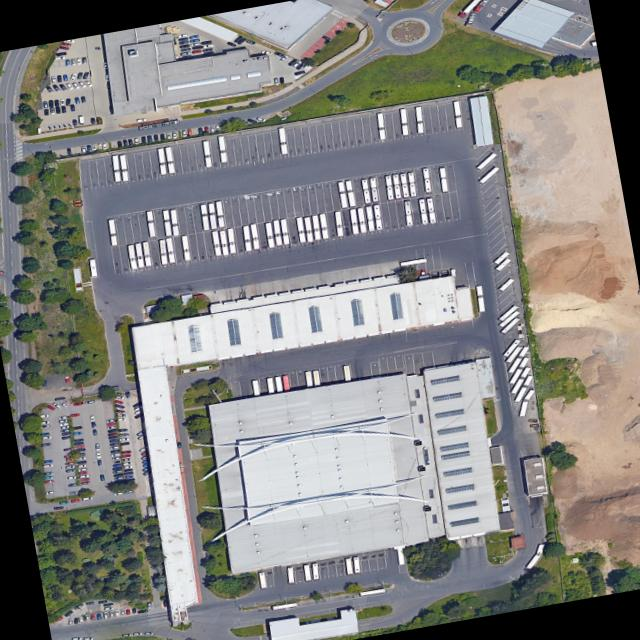large-vehicle: (507, 345, 530, 373), (510, 366, 532, 393), (508, 357, 530, 384), (525, 543, 546, 569), (518, 388, 535, 417), (458, 0, 481, 18), (478, 166, 500, 184), (499, 310, 521, 327), (477, 152, 498, 169), (502, 338, 521, 356), (499, 304, 519, 321), (500, 317, 521, 333), (337, 181, 349, 208), (199, 203, 210, 231), (505, 346, 523, 363), (345, 180, 356, 207), (211, 230, 222, 257), (242, 225, 253, 252), (334, 210, 345, 237), (361, 178, 372, 204), (319, 213, 330, 239), (349, 208, 360, 234), (135, 242, 146, 268), (142, 241, 153, 267), (165, 237, 176, 263), (418, 198, 429, 224), (250, 222, 260, 250), (215, 200, 225, 228), (157, 147, 167, 175), (165, 146, 175, 174), (170, 208, 180, 236), (218, 135, 228, 163), (278, 126, 288, 154), (376, 112, 386, 140), (453, 100, 463, 128), (112, 154, 122, 182), (369, 177, 380, 202), (219, 229, 229, 256), (227, 227, 237, 254), (273, 219, 283, 246), (280, 218, 290, 245), (296, 216, 306, 243), (119, 154, 129, 181), (108, 219, 118, 246), (146, 210, 156, 237), (162, 209, 172, 236), (159, 238, 169, 265), (476, 285, 486, 312), (265, 222, 275, 248), (303, 216, 313, 242), (312, 214, 322, 240), (128, 244, 138, 270), (181, 235, 191, 261), (357, 207, 367, 233), (373, 204, 383, 230), (404, 200, 414, 226), (427, 197, 437, 223), (400, 172, 410, 198), (203, 140, 212, 168), (493, 250, 511, 264), (400, 108, 409, 136), (407, 171, 417, 196), (422, 167, 432, 192), (208, 202, 217, 229), (366, 205, 375, 232), (495, 257, 512, 271), (385, 174, 394, 200), (439, 166, 448, 192), (392, 173, 401, 199), (498, 278, 515, 291), (400, 258, 427, 266), (415, 106, 423, 133), (272, 602, 298, 610), (360, 588, 386, 596), (258, 571, 268, 588), (89, 259, 98, 277), (252, 379, 261, 397), (282, 374, 291, 392), (304, 370, 313, 388), (343, 364, 352, 382), (266, 377, 275, 394), (396, 548, 405, 565), (304, 563, 312, 581), (275, 375, 283, 393), (312, 369, 320, 387), (287, 566, 295, 584), (311, 562, 319, 580), (345, 557, 353, 575), (353, 555, 361, 573)
small-vehicle: (467, 12, 477, 23), (236, 36, 247, 45), (291, 60, 303, 68), (246, 117, 259, 124), (287, 58, 298, 66), (296, 62, 307, 70), (57, 44, 71, 50), (225, 40, 237, 47), (81, 71, 90, 80), (45, 84, 54, 93), (77, 80, 87, 88), (68, 73, 78, 81), (51, 83, 61, 91), (233, 35, 243, 43), (179, 50, 192, 56), (254, 116, 267, 122), (84, 79, 93, 87), (71, 81, 80, 89), (59, 83, 68, 91), (245, 39, 257, 45), (261, 50, 273, 56), (274, 51, 286, 57), (52, 402, 62, 409), (78, 115, 85, 125), (63, 610, 73, 617), (279, 55, 289, 62), (137, 433, 147, 440), (142, 465, 152, 472), (142, 469, 152, 476), (141, 457, 151, 464), (140, 453, 150, 460), (113, 399, 124, 405), (114, 403, 125, 409), (131, 401, 142, 407), (135, 430, 146, 436), (42, 470, 53, 476), (138, 446, 149, 452), (66, 82, 74, 90), (102, 611, 109, 620), (74, 603, 83, 610), (55, 51, 67, 56), (181, 54, 193, 59), (203, 43, 215, 48), (178, 39, 188, 45), (70, 425, 82, 430), (72, 437, 84, 442), (133, 405, 143, 411), (134, 409, 144, 415), (134, 413, 144, 419), (58, 500, 70, 505), (76, 72, 83, 80), (60, 400, 68, 407), (66, 147, 73, 155), (95, 450, 102, 458), (90, 420, 97, 428), (54, 55, 65, 60), (114, 395, 125, 400), (55, 396, 66, 401), (69, 412, 80, 417), (58, 415, 69, 420), (192, 45, 203, 50), (179, 43, 190, 48), (189, 38, 200, 43), (188, 34, 199, 39), (103, 602, 114, 607), (294, 70, 305, 75), (118, 441, 129, 446), (110, 452, 121, 457), (105, 421, 116, 426), (40, 442, 51, 447), (60, 428, 71, 433), (110, 448, 121, 453), (65, 464, 76, 469), (78, 470, 89, 475), (65, 58, 71, 67), (47, 404, 56, 410), (54, 616, 63, 622), (140, 450, 149, 456), (321, 35, 331, 40), (58, 418, 68, 423), (180, 47, 190, 52), (43, 463, 53, 468), (108, 435, 118, 440), (107, 431, 117, 436), (76, 447, 86, 452), (78, 467, 88, 472), (105, 418, 115, 423), (62, 431, 72, 436), (113, 469, 123, 474), (121, 449, 131, 454), (122, 457, 132, 462), (44, 478, 54, 483), (69, 104, 76, 111), (124, 391, 131, 398), (89, 414, 96, 421), (54, 99, 60, 107), (74, 96, 80, 104), (61, 105, 67, 113), (49, 106, 55, 114), (76, 57, 82, 65), (60, 42, 72, 46), (72, 118, 78, 126), (102, 142, 108, 150), (86, 144, 92, 152), (91, 143, 97, 151), (84, 613, 90, 621), (109, 610, 115, 618), (105, 73, 111, 81), (176, 441, 182, 449), (274, 77, 280, 85), (128, 138, 134, 146), (134, 137, 140, 145), (153, 133, 159, 141), (172, 131, 178, 139), (114, 413, 126, 417), (114, 409, 126, 413), (96, 458, 102, 466), (143, 461, 151, 467), (109, 438, 118, 443), (95, 442, 100, 451), (45, 490, 54, 495), (114, 491, 123, 496), (122, 453, 131, 458), (191, 49, 202, 53), (204, 51, 215, 55), (201, 40, 212, 44), (53, 506, 64, 510), (118, 437, 129, 441), (75, 456, 86, 460), (39, 432, 50, 436), (41, 435, 52, 439), (112, 466, 123, 470), (66, 468, 77, 472), (66, 475, 77, 479), (78, 474, 89, 478), (65, 98, 71, 105), (55, 106, 61, 113), (64, 376, 70, 383), (73, 617, 79, 624), (79, 616, 85, 623), (114, 610, 120, 617), (204, 126, 210, 133), (123, 139, 129, 146), (117, 141, 123, 148), (198, 127, 204, 134), (141, 136, 147, 143), (99, 474, 105, 481), (60, 98, 65, 106), (82, 56, 87, 64), (73, 401, 83, 405), (85, 400, 95, 404), (39, 414, 49, 418), (40, 420, 50, 424), (81, 145, 86, 153), (60, 425, 70, 429), (144, 631, 154, 635), (203, 48, 213, 52), (190, 42, 200, 46), (122, 633, 132, 637), (133, 632, 143, 636), (104, 606, 114, 610), (138, 609, 148, 613), (103, 61, 108, 69), (137, 118, 147, 122), (65, 457, 75, 461), (279, 76, 284, 84), (147, 134, 152, 142), (107, 428, 117, 432), (118, 428, 128, 432), (72, 431, 82, 435), (61, 435, 71, 439), (124, 465, 134, 469), (124, 471, 134, 475), (81, 480, 91, 484), (69, 491, 79, 495), (70, 498, 80, 502), (83, 496, 93, 500), (113, 455, 121, 460), (44, 459, 54, 463), (43, 475, 53, 479), (122, 461, 132, 465), (80, 96, 86, 102), (40, 424, 49, 428), (60, 422, 69, 426), (179, 37, 188, 41), (83, 637, 95, 640), (67, 618, 73, 624), (131, 608, 137, 614), (178, 33, 187, 37), (210, 126, 216, 132), (76, 452, 85, 456), (160, 133, 166, 139), (110, 445, 119, 449), (110, 442, 119, 446), (75, 441, 84, 445), (76, 444, 85, 448), (77, 464, 86, 468), (107, 425, 116, 429), (124, 468, 133, 472), (68, 483, 77, 487), (65, 461, 74, 465), (80, 477, 89, 481), (112, 463, 121, 467), (43, 101, 48, 108), (49, 100, 54, 107), (44, 108, 49, 115), (71, 58, 76, 65), (51, 76, 56, 83), (57, 75, 62, 82), (63, 74, 68, 81), (90, 613, 95, 620), (120, 609, 125, 616), (126, 608, 131, 615), (107, 82, 112, 89), (163, 599, 168, 606), (166, 132, 171, 139), (182, 130, 187, 137), (71, 637, 82, 640), (118, 433, 129, 436), (86, 601, 94, 605), (99, 600, 107, 604), (64, 454, 72, 458), (64, 447, 72, 451), (78, 460, 86, 464), (126, 474, 134, 478), (115, 476, 123, 480), (42, 380, 47, 386), (97, 613, 101, 620), (148, 601, 152, 608), (125, 490, 132, 494), (114, 473, 123, 476), (91, 117, 95, 123), (93, 429, 97, 435), (0, 271, 4, 275)
